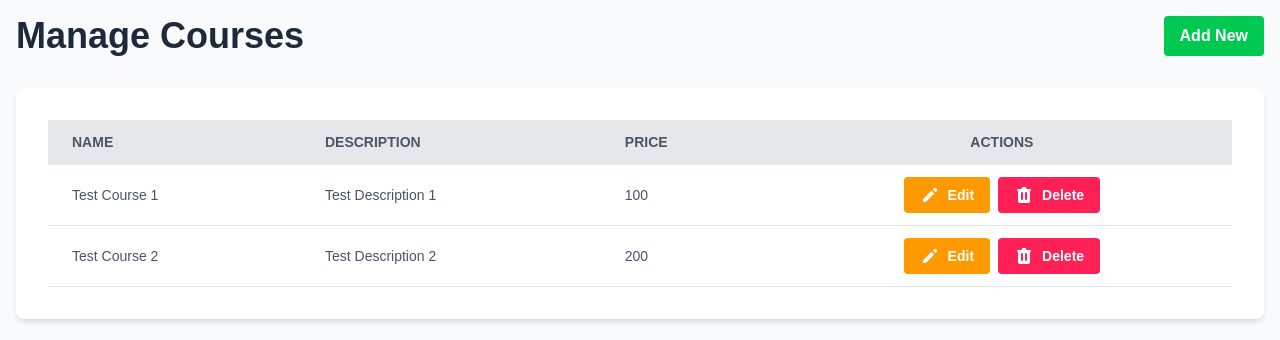
Test: CoursesPage › deletes a course when delete is confirmed
The image size is (1280, 340).
Click the button "Delete" in the row of "Test Course 1" at (1049, 195), box x1=998 y1=177 x2=1100 y2=213
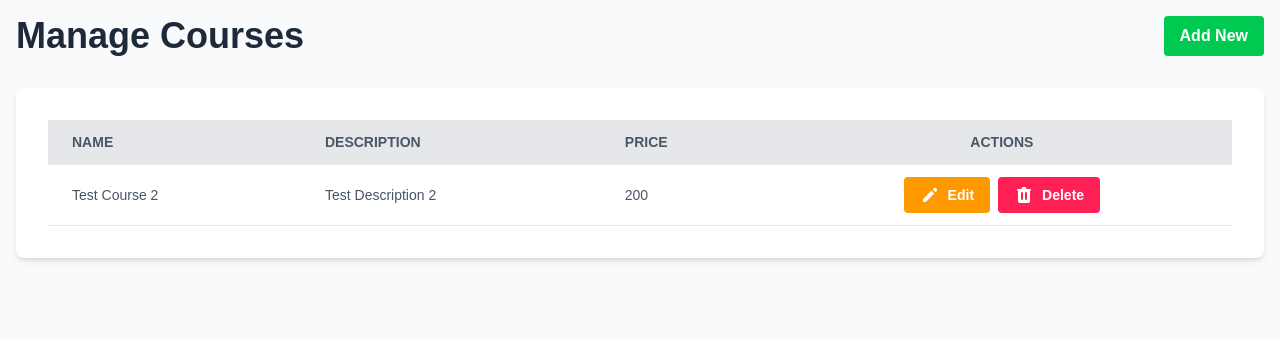
Expected: the text "Test Course 1" is gone
